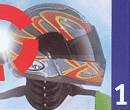helmet: (10, 7, 107, 87)
